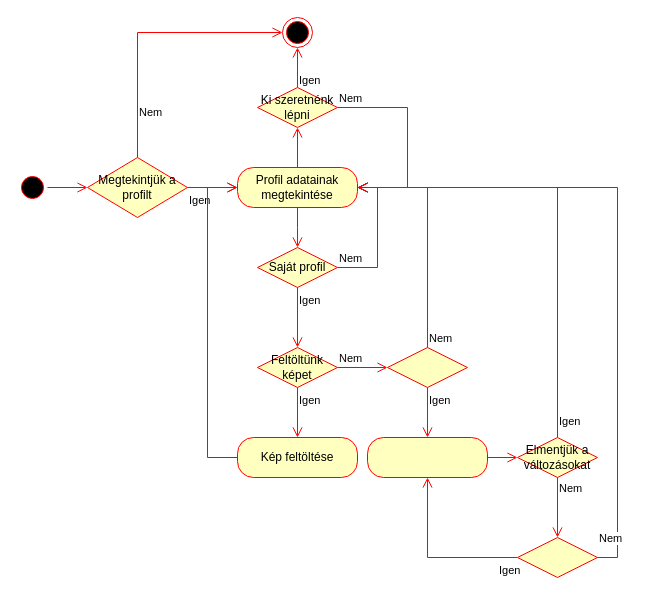
Image size: 645x595. Some labels were removed from this diagram. The shapes that lost their labels are listed below. From the top down, each one's centre as x and y in pixels, then its label:
At point (427, 367): "Szerkesztjük a profilt".
At point (427, 457): "Profil szerkesztése".
At point (557, 557): "Folytatja a szerkesztést".
